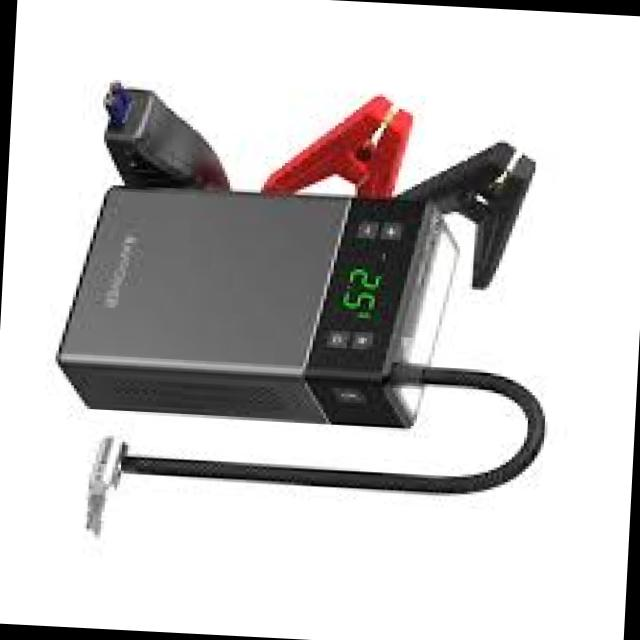power_bank: (49, 173, 463, 438)
